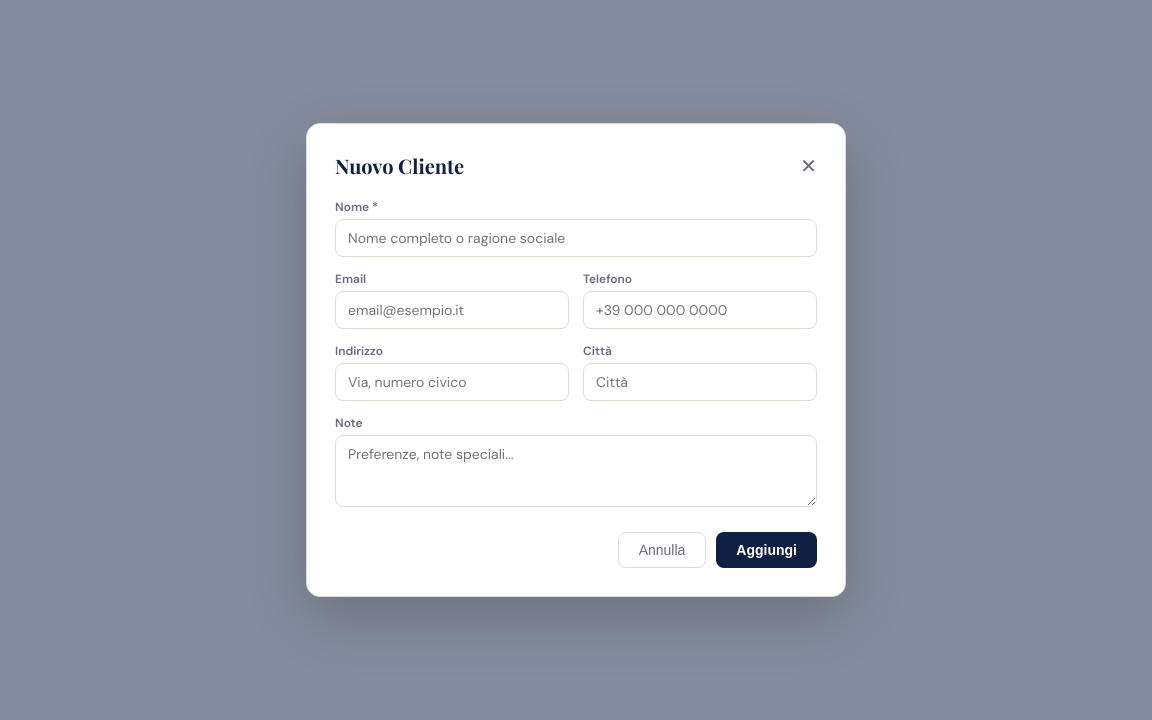
ClienteModal — il nome mancante lo dice, non lo tace › l'errore si spegne appena si scrive nel campo
The image size is (1152, 720).
Click the button "Aggiungi" at (767, 550), box [716,532,817,568]
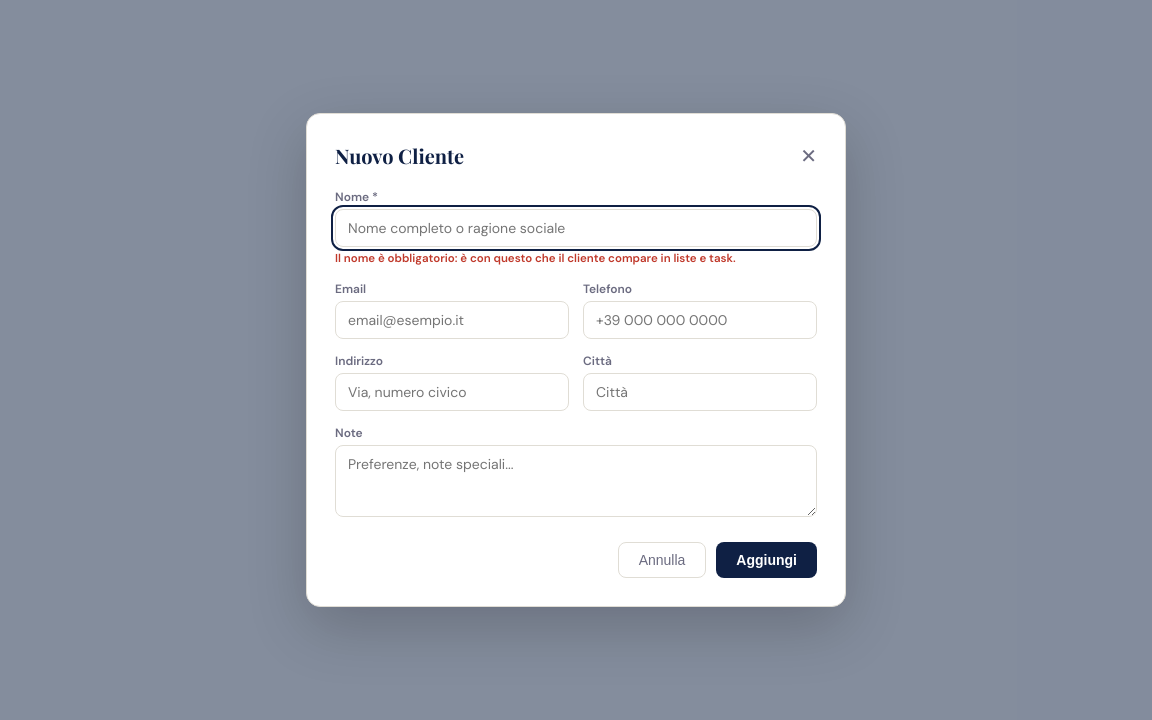
Check: the message "Il nome è obbligatorio: è con questo che il cliente compare in liste e task." is shown, box [335,251,736,266]
Type "Rossi" into the field labelled "Nome *" at (576, 228), box [335,209,817,247]
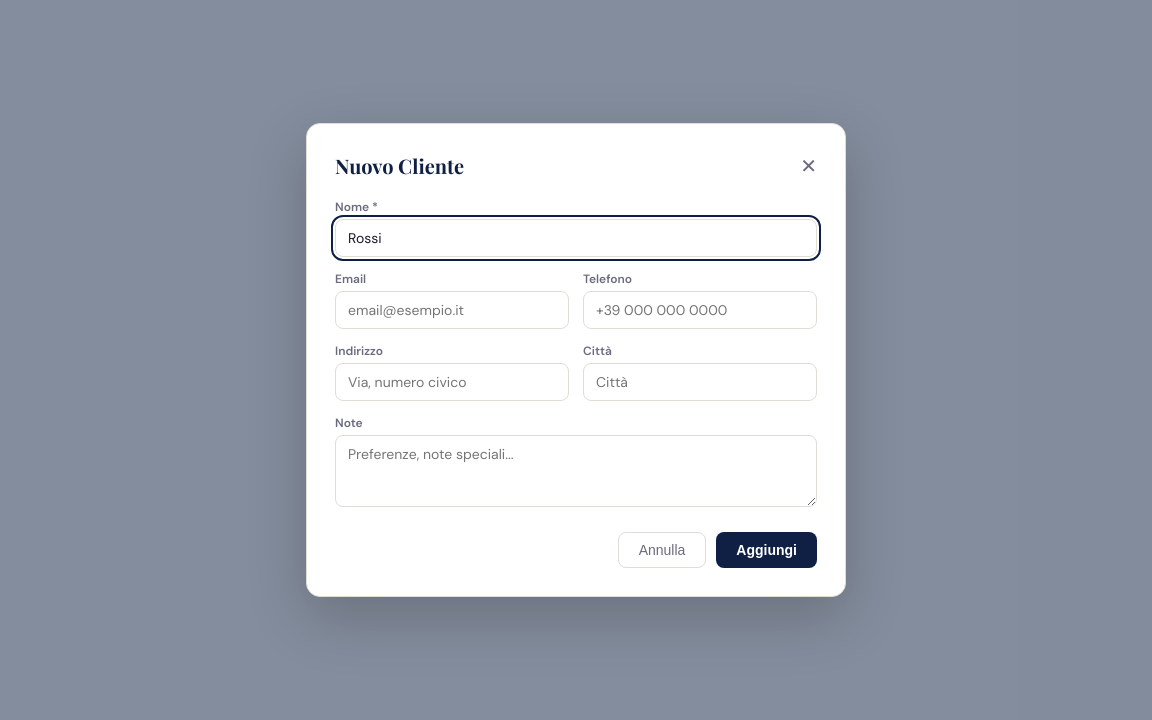
Check: the message "Il nome è obbligatorio: è con questo che il cliente compare in liste e task." is gone
